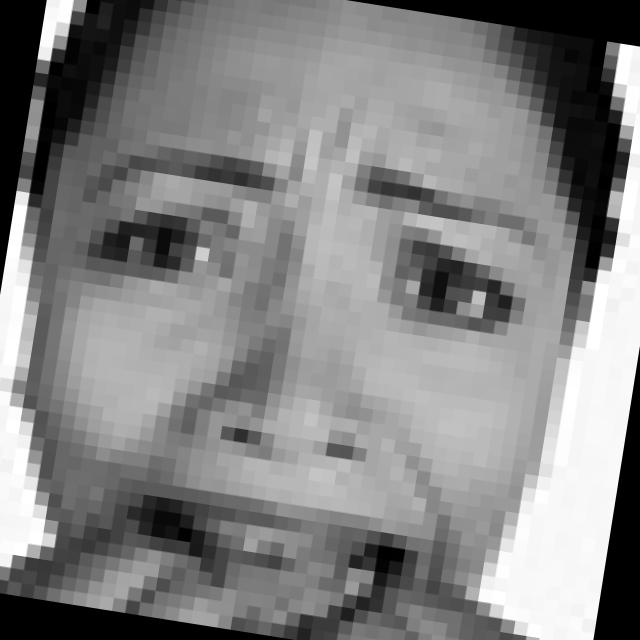fear: (15, 70, 576, 640)
